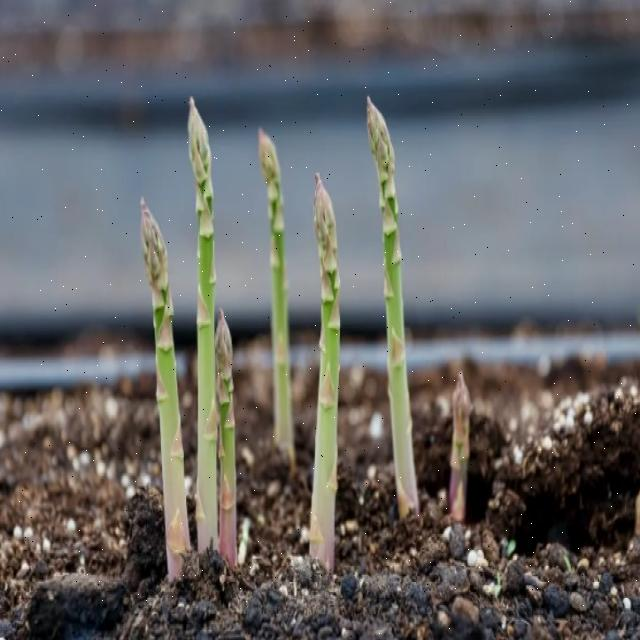aspargus: (367, 99, 420, 518), (141, 199, 189, 577), (307, 173, 341, 566), (189, 100, 218, 551), (258, 130, 292, 459)
